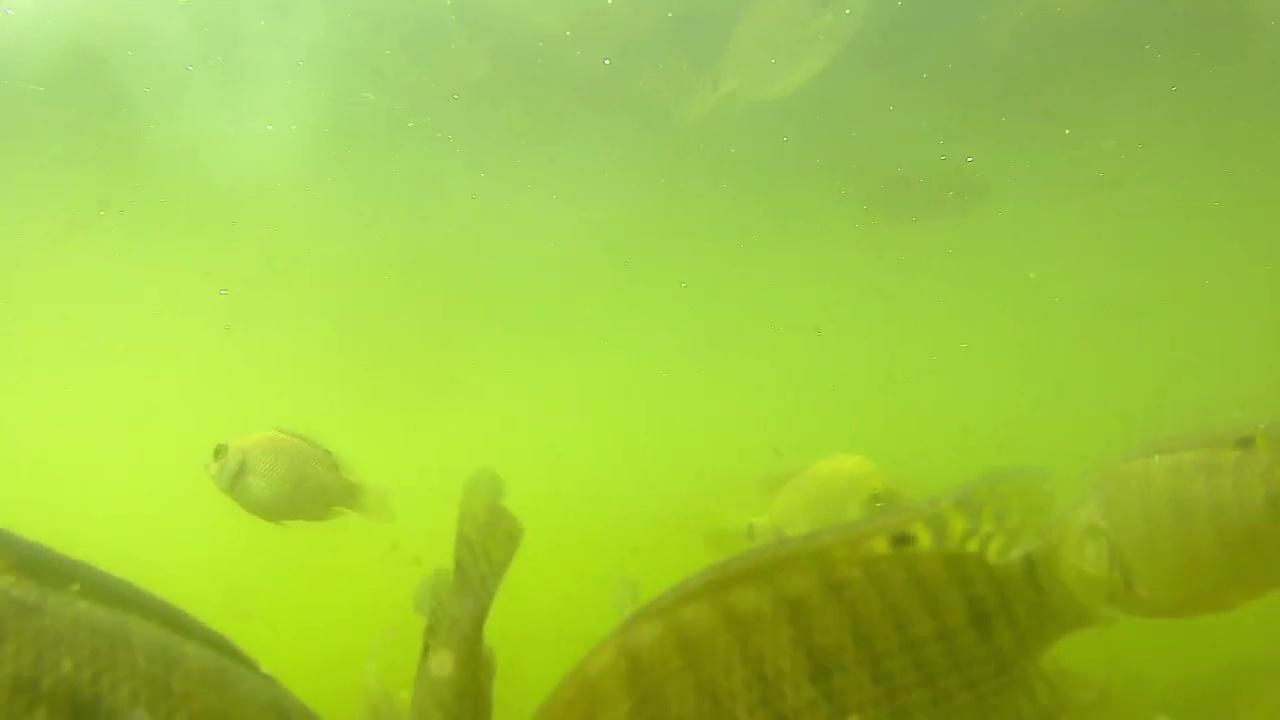Tilapia: (533, 468, 1092, 718), (1073, 430, 1280, 618), (705, 406, 914, 550), (205, 430, 396, 528)
